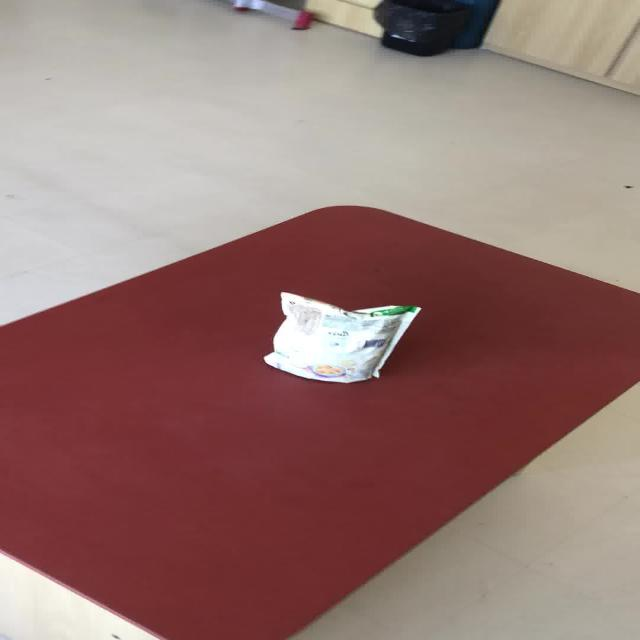corn flakes: (261, 290, 420, 384)
